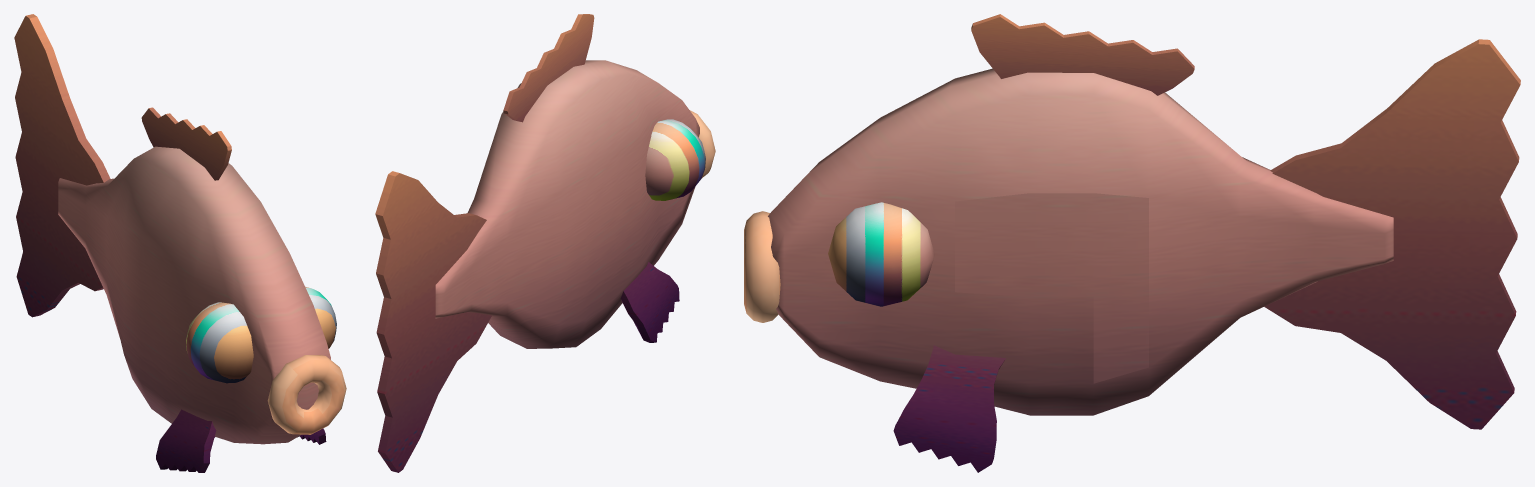
Rendered from Fishy.fbx.
3 views of the same model, side by side, from view 1: azimuth 30°, elevation 25°; view 2: azimuth 150°, elevation 25°; view 3: azimuth 270°, elevation 25° (orthographic). The views are drawn at different scales.
Parts seen in each view (by area): view 1: pCube1, pPlane2, pSphere1, pTorus1, pPlane3, pPlane1; view 2: pCube1, pPlane2, pSphere1, pPlane3, pPlane1, pTorus1; view 3: pCube1, pPlane2, pPlane3, pPlane1, pSphere1, pTorus1.
Boxes of the visible parts, bbox=[...] form: pCube1: bbox=[58, 146, 330, 444]; pPlane2: bbox=[14, 14, 110, 317]; pSphere1: bbox=[186, 287, 336, 383]; pTorus1: bbox=[267, 355, 346, 434]; pPlane3: bbox=[141, 107, 231, 180]; pPlane1: bbox=[156, 409, 326, 472]; pCube1: bbox=[435, 60, 699, 348]; pPlane2: bbox=[375, 171, 491, 472]; pSphere1: bbox=[645, 119, 705, 200]; pPlane3: bbox=[503, 14, 594, 122]; pPlane1: bbox=[620, 262, 679, 342]; pTorus1: bbox=[690, 110, 715, 177]; pCube1: bbox=[768, 68, 1393, 415]; pPlane2: bbox=[1264, 39, 1520, 429]; pPlane3: bbox=[971, 14, 1194, 95]; pPlane1: bbox=[893, 345, 1005, 472]; pSphere1: bbox=[828, 202, 934, 306]; pTorus1: bbox=[744, 211, 780, 322].
Bounding box in the file's own units: 3.51 × 7.16 × 12.21.
1 material, 1 textured.
